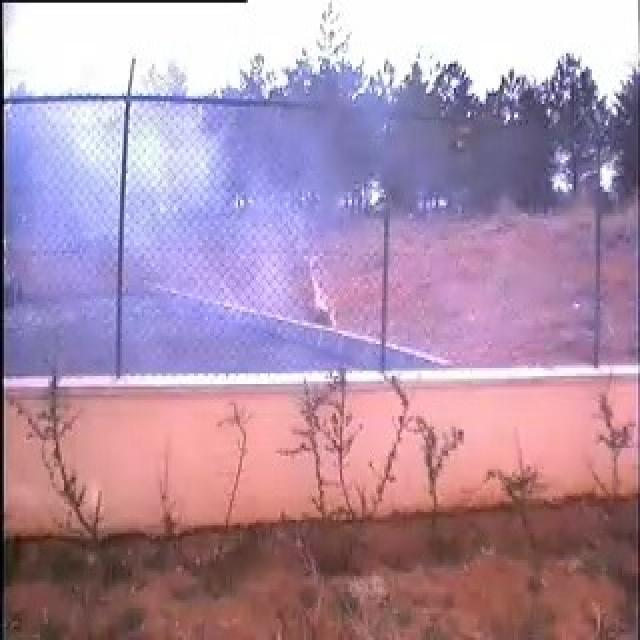smoke: (42, 98, 279, 370)
